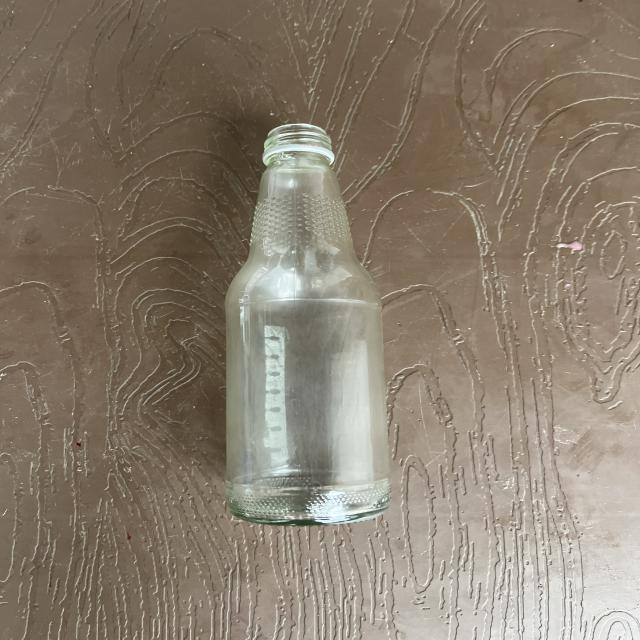Glass_Bottle: (226, 124, 390, 525)
